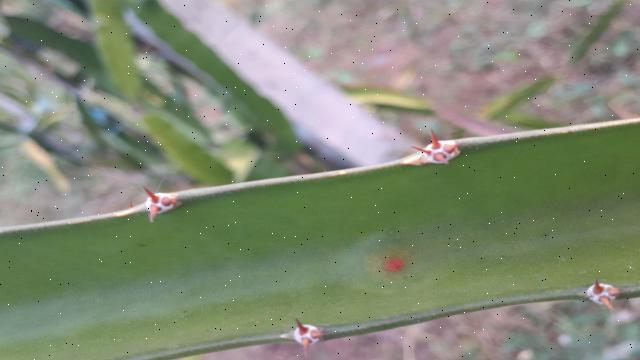stemcanker: (366, 241, 420, 285)
